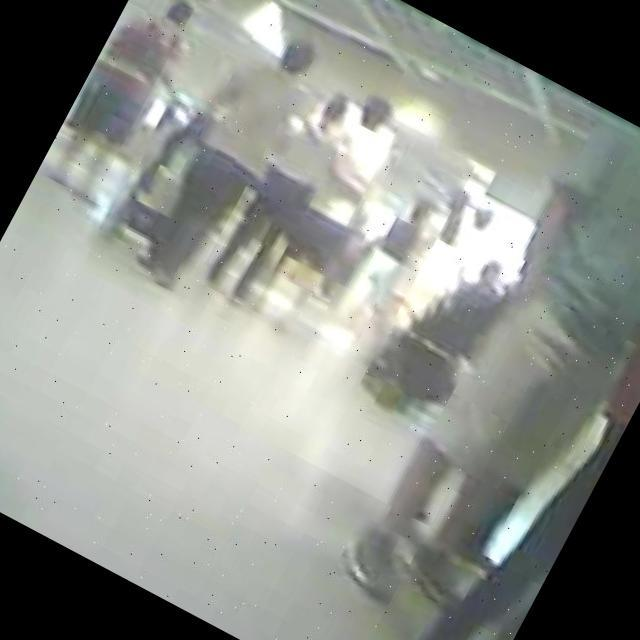person: (331, 98, 640, 640), (394, 148, 640, 640), (120, 10, 343, 311), (213, 70, 416, 340), (200, 70, 403, 332), (35, 0, 215, 214), (331, 186, 454, 352)
